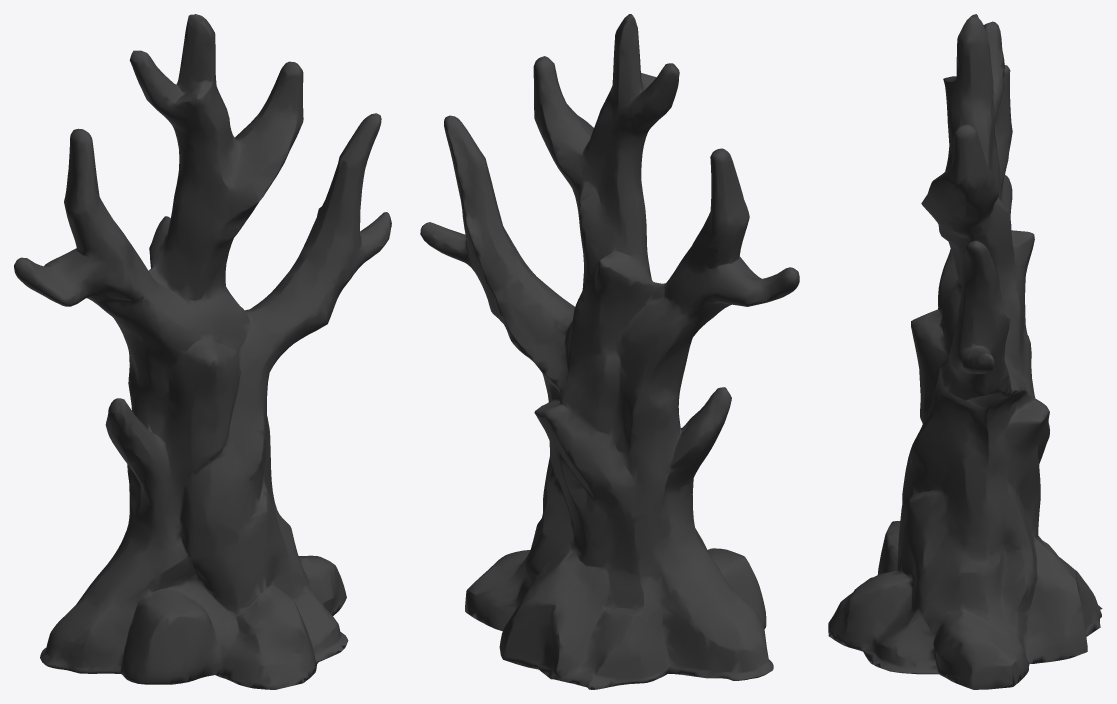
Rendered from pr_arbol_quemado.glb.
3 renders of one model, left to right at view 1: azimuth 30°, elevation 25°; view 2: azimuth 150°, elevation 25°; view 3: azimuth 270°, elevation 25°, orthographic. The views are drawn at different scales.
Parts seen in each view (by area): view 1: geometry_0; view 2: geometry_0; view 3: geometry_0.
Boxes of the visible parts, x1=… form: geometry_0: x1=14, y1=14, x2=391, y2=689; geometry_0: x1=420, y1=14, x2=799, y2=689; geometry_0: x1=828, y1=14, x2=1102, y2=689.
Bounding box in the file's own units: 0.6229 × 0.9875 × 0.4049.
Materials: 1 (1 with a texture image).
